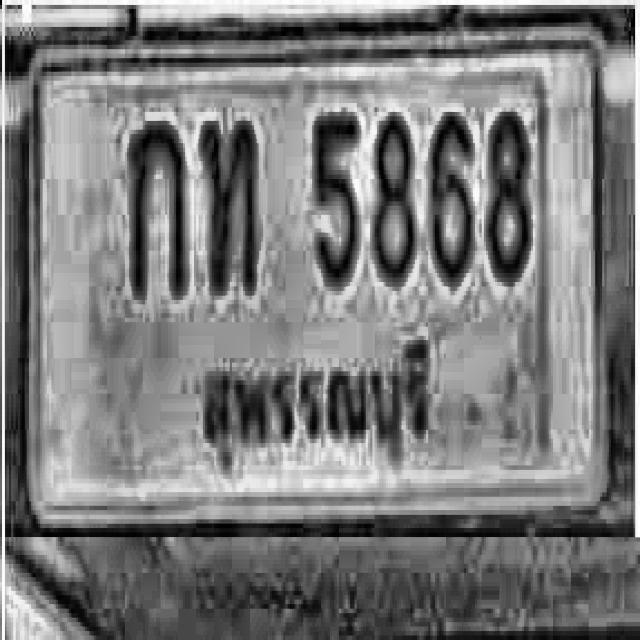license-plate: (25, 11, 610, 535)
